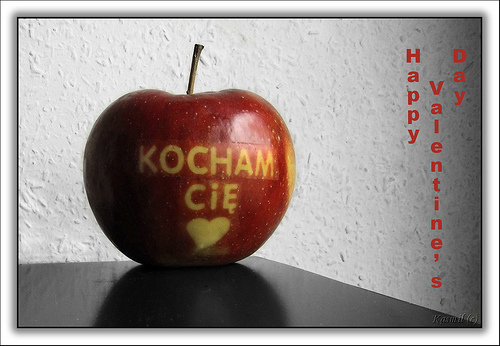apple: (83, 43, 296, 268)
